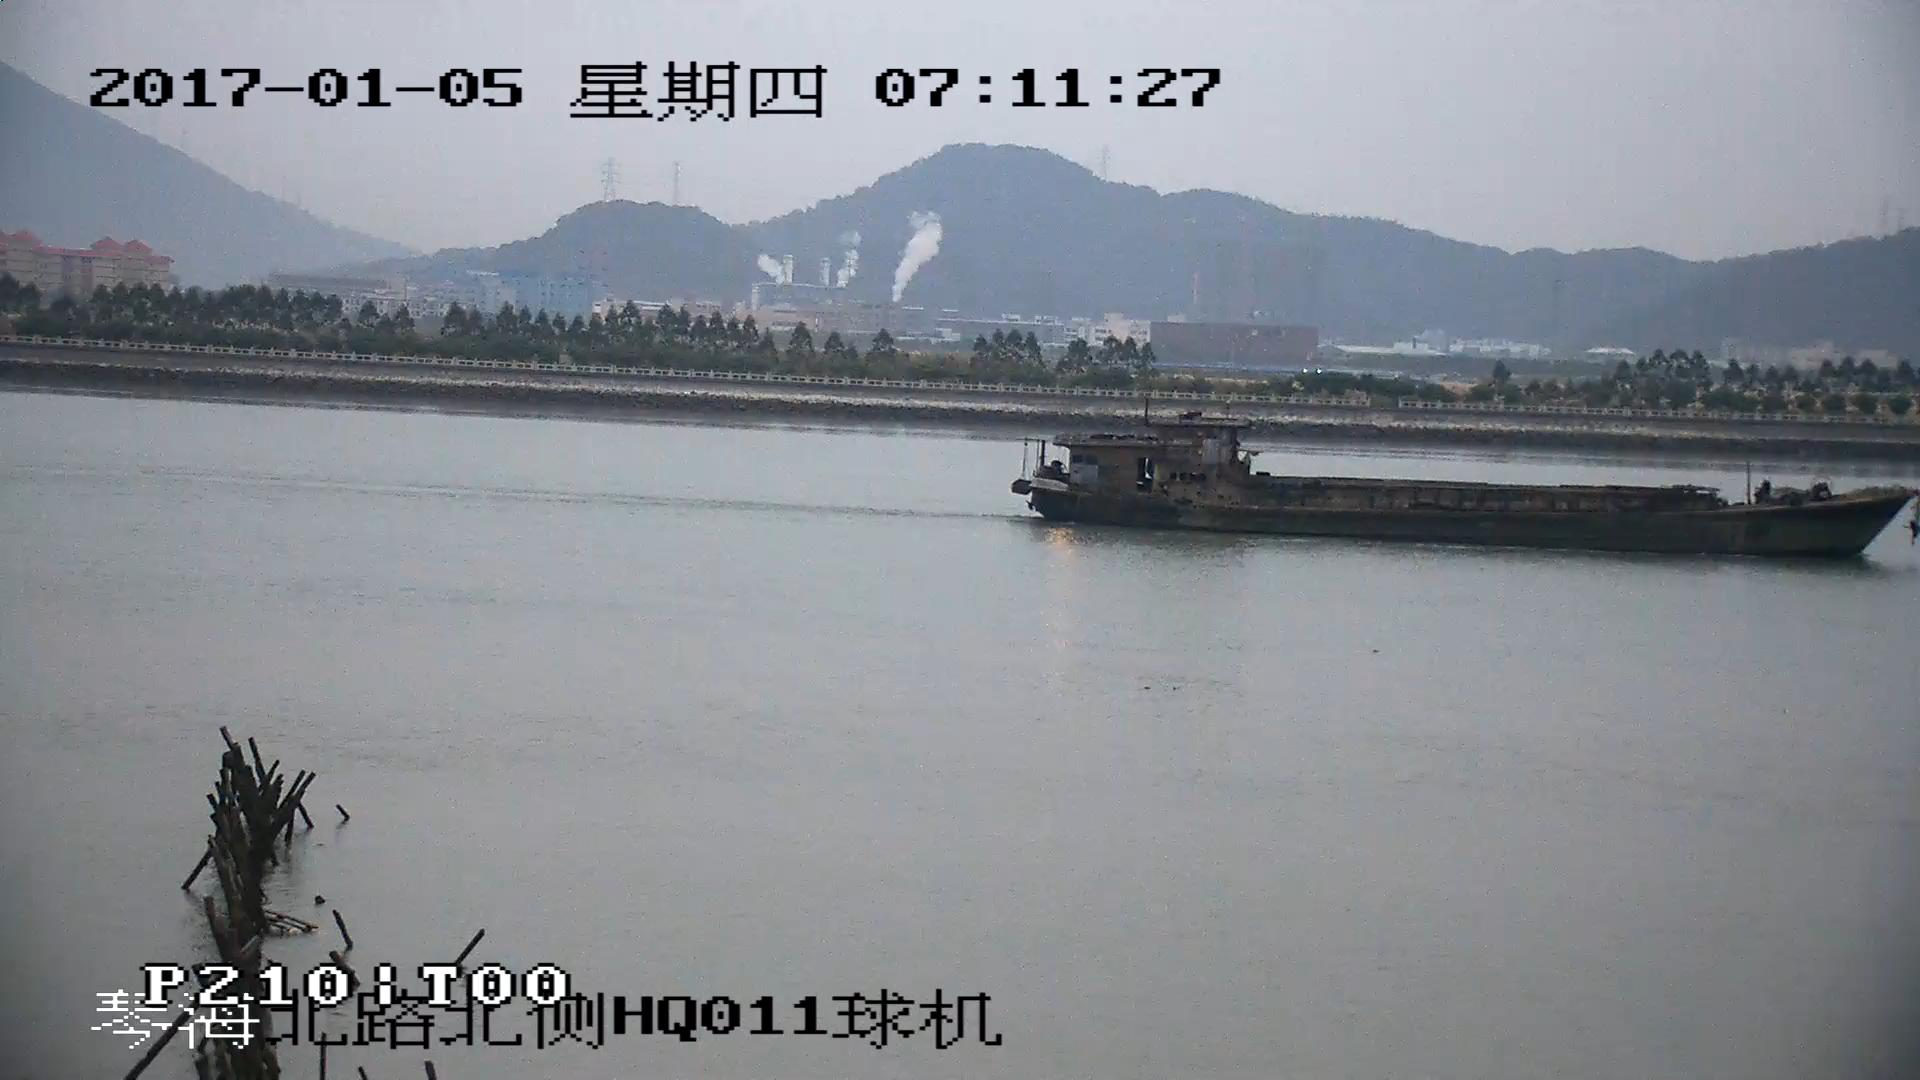bulk cargo carrier: (1010, 408, 1920, 562)
